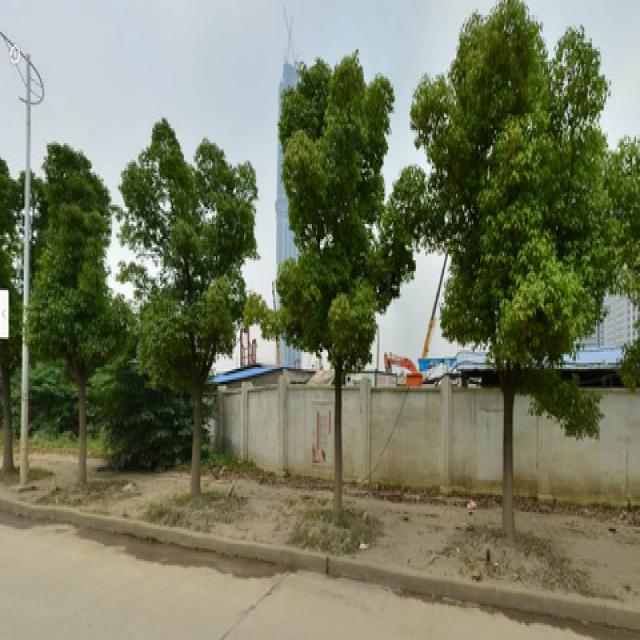cinn: (279, 69, 401, 516)
